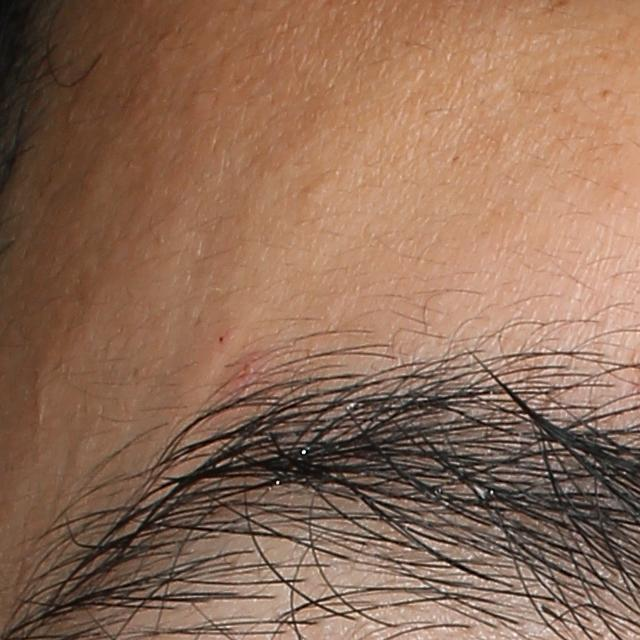comedo: (293, 174, 330, 203)
